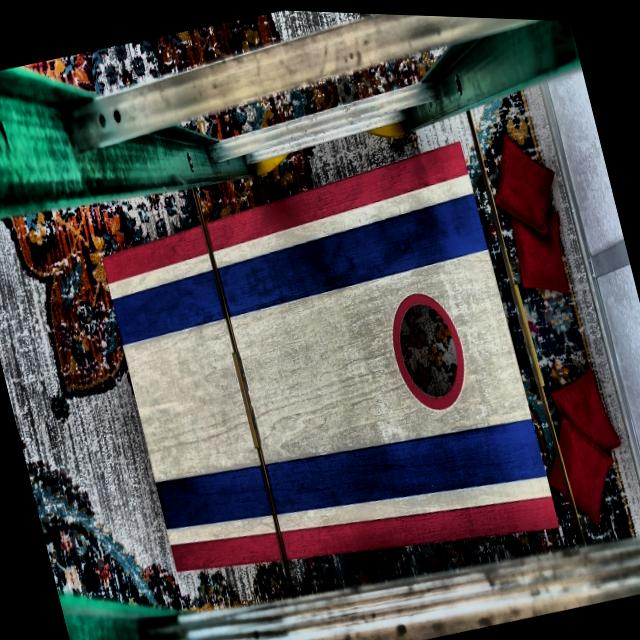board: (103, 165, 546, 578)
hole: (380, 281, 476, 416)
red-bean-bag: (534, 403, 628, 531), (480, 118, 568, 239), (506, 200, 579, 302), (546, 360, 622, 454)
